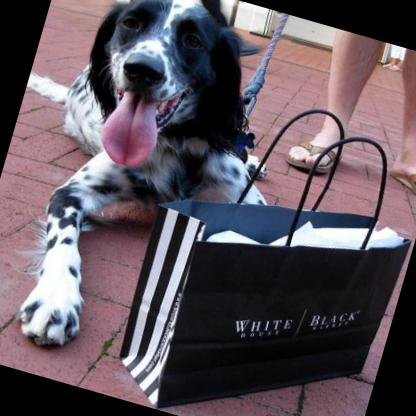English_setter: (0, 0, 321, 395)
